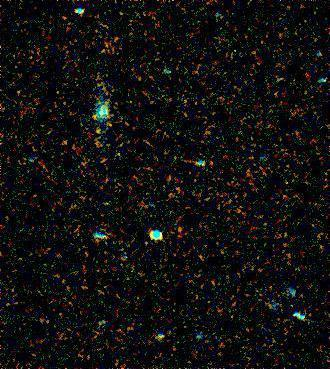star: (85, 118, 115, 148)
